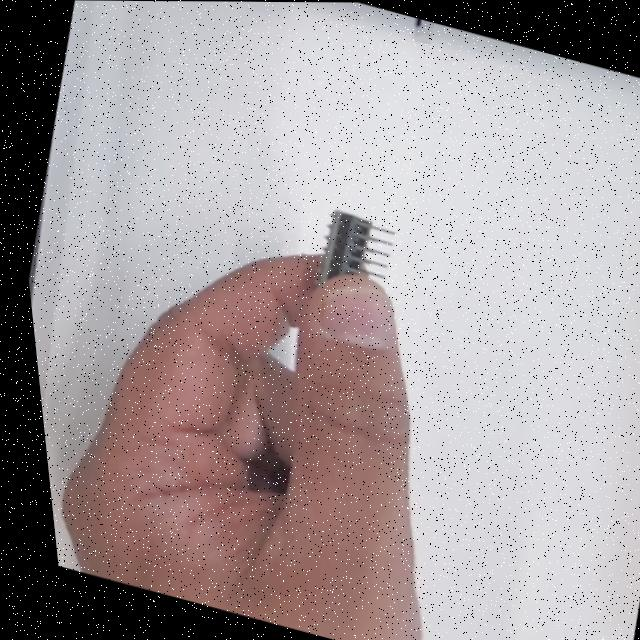Chip: (304, 203, 409, 311)
